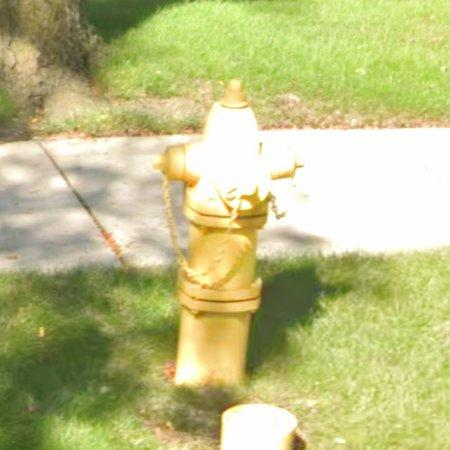a fire hydrant: (156, 80, 301, 387)
